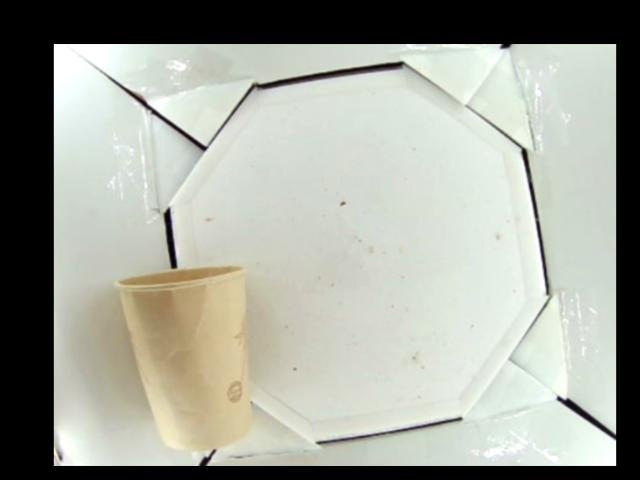Cup: (110, 267, 249, 447)
